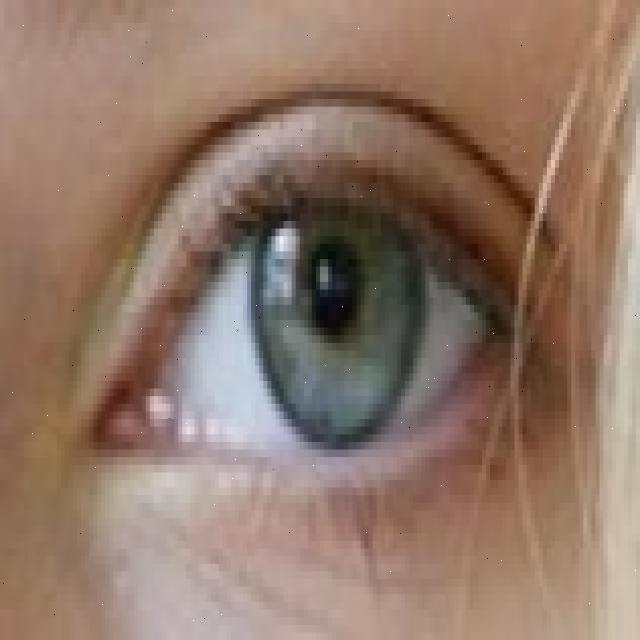Normal: (245, 152, 423, 454)
